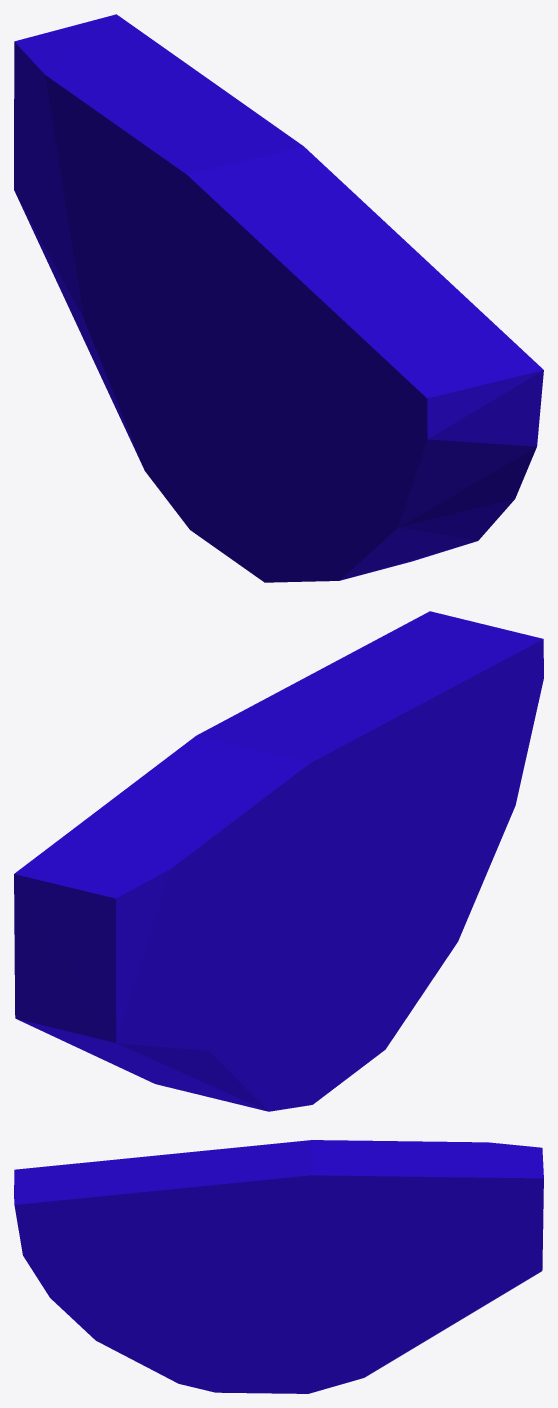
File: model7_convex_piece_001.obj
3 renders of one model, top to bottom at view 1: azimuth 30°, elevation 25°; view 2: azimuth 150°, elevation 25°; view 3: azimuth 270°, elevation 25°, orthographic. The views are drawn at different scales.
Size of the model in its own units: 0.00539 by 0.0156 by 0.0342.
